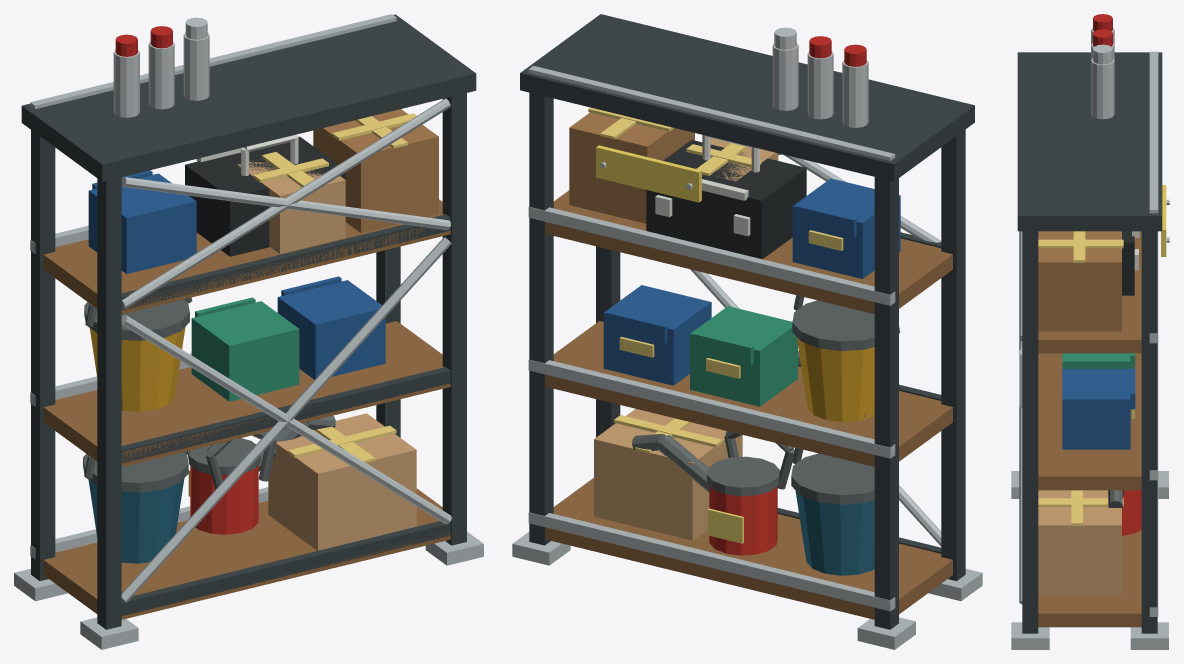
Rendered from HomebaseAssetShelf_LOD00.gltf.
The picture shows the model from 3 angles, left to right: view 1: azimuth 30°, elevation 25°; view 2: azimuth 150°, elevation 25°; view 3: azimuth 270°, elevation 25°; orthographic projection. The views are drawn at different scales.
Visible parts, largest first — view 1: HomebaseAssetShelf_node; view 2: HomebaseAssetShelf_node; view 3: HomebaseAssetShelf_node.
Boxes of the visible parts, bbox=[...] form: HomebaseAssetShelf_node: bbox=[14, 14, 483, 649]; HomebaseAssetShelf_node: bbox=[512, 14, 982, 649]; HomebaseAssetShelf_node: bbox=[1011, 14, 1169, 649].
Bounding box in the file's own units: 1.86 × 2.58 × 0.744.
